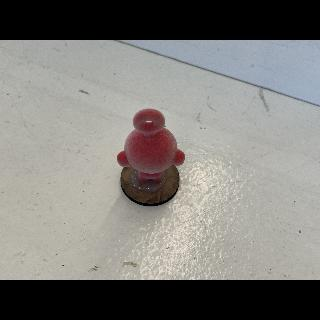teletubby: (117, 109, 185, 185)
